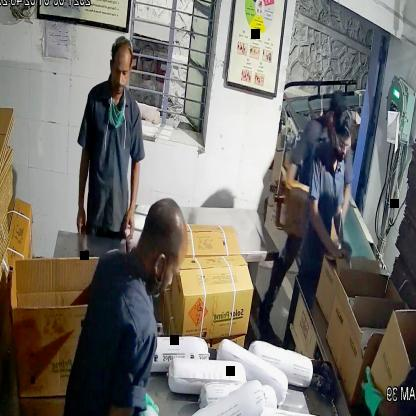goggles: (328, 128, 358, 157)
no_goggles: (106, 60, 136, 84)
